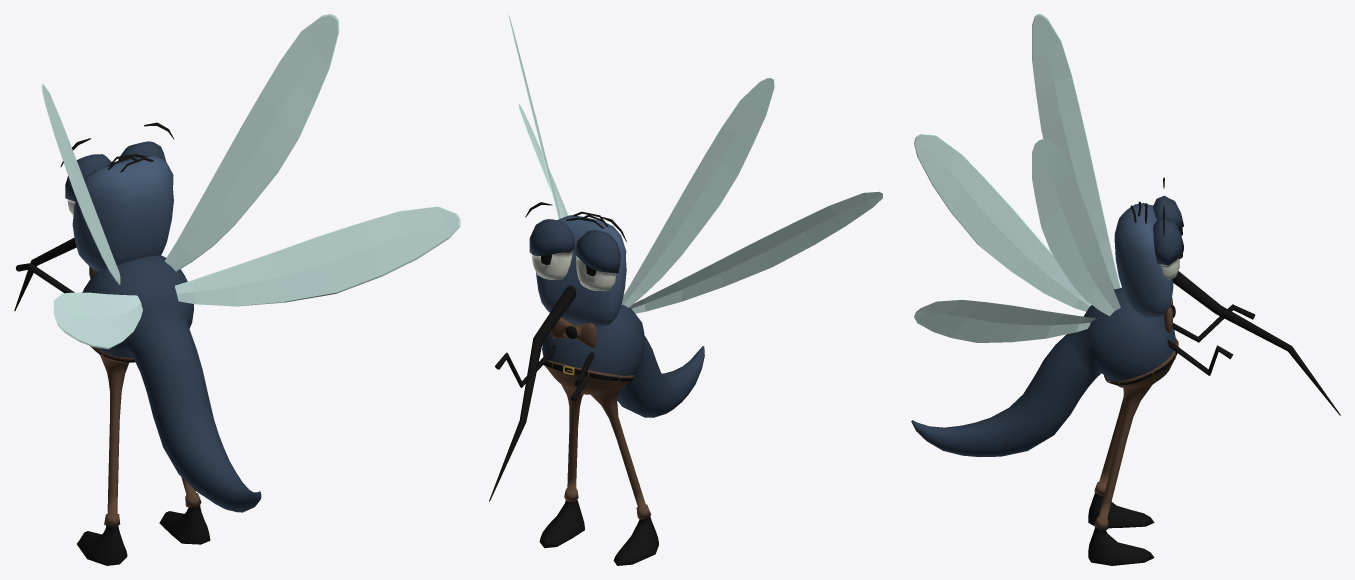
File: Mosquito.fbx
3 views of the same model, side by side, from view 1: azimuth 30°, elevation 25°; view 2: azimuth 150°, elevation 25°; view 3: azimuth 270°, elevation 25° (orthographic). The views are drawn at different scales.
Parts seen in each view (by area): view 1: shoes.003; view 2: shoes.003; view 3: shoes.003.
Boxes of the visible parts, x1,y1,x2,y2 form: shoes.003: (14, 14, 460, 565); shoes.003: (489, 14, 882, 565); shoes.003: (911, 14, 1340, 565).
Size of the model in its own units: 96.66 by 119 by 100.
